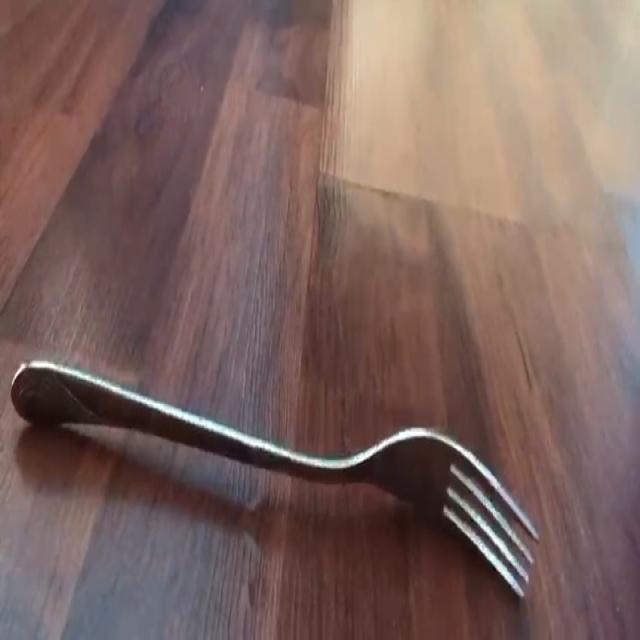spoon: (11, 362, 538, 597)
